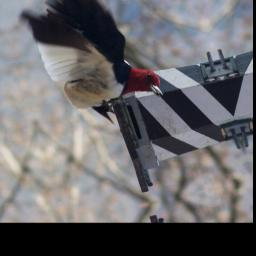Woodpecker: (19, 0, 174, 133)
